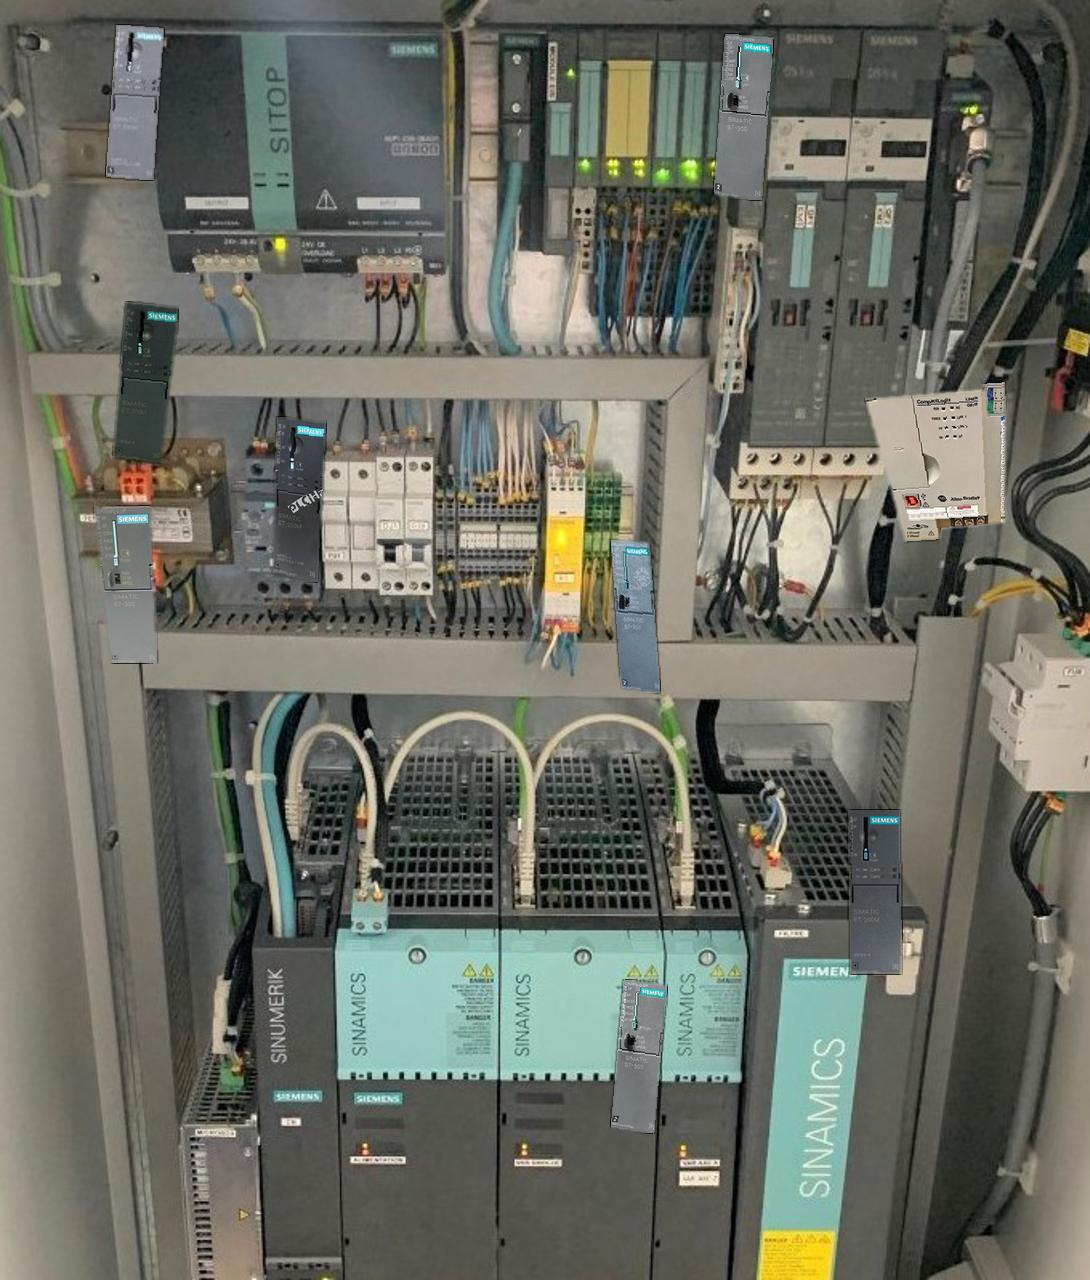AllenBradley: (865, 382, 1005, 541)
Siemens: (714, 34, 773, 199), (94, 506, 156, 662), (611, 979, 666, 1133), (611, 541, 659, 692)
